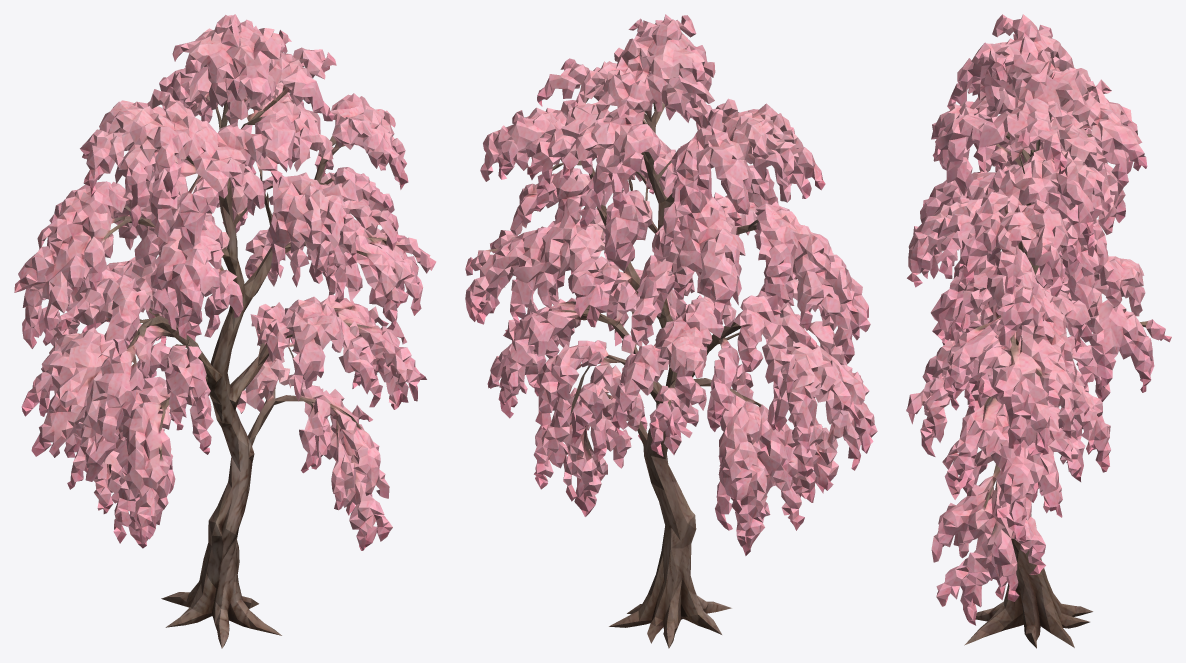
The model's file is source.glb.
3 renders of one model, left to right at view 1: azimuth 30°, elevation 25°; view 2: azimuth 150°, elevation 25°; view 3: azimuth 270°, elevation 25°, orthographic. The views are drawn at different scales.
Visible parts, largest first — view 1: model; view 2: model; view 3: model.
Boxes of the visible parts, bbox=[...] form: model: bbox=[14, 14, 436, 648]; model: bbox=[465, 14, 877, 648]; model: bbox=[906, 14, 1171, 648].
Bounding box in the file's own units: 1.29 × 1.9 × 0.74.
Materials: 1 (1 with a texture image).
